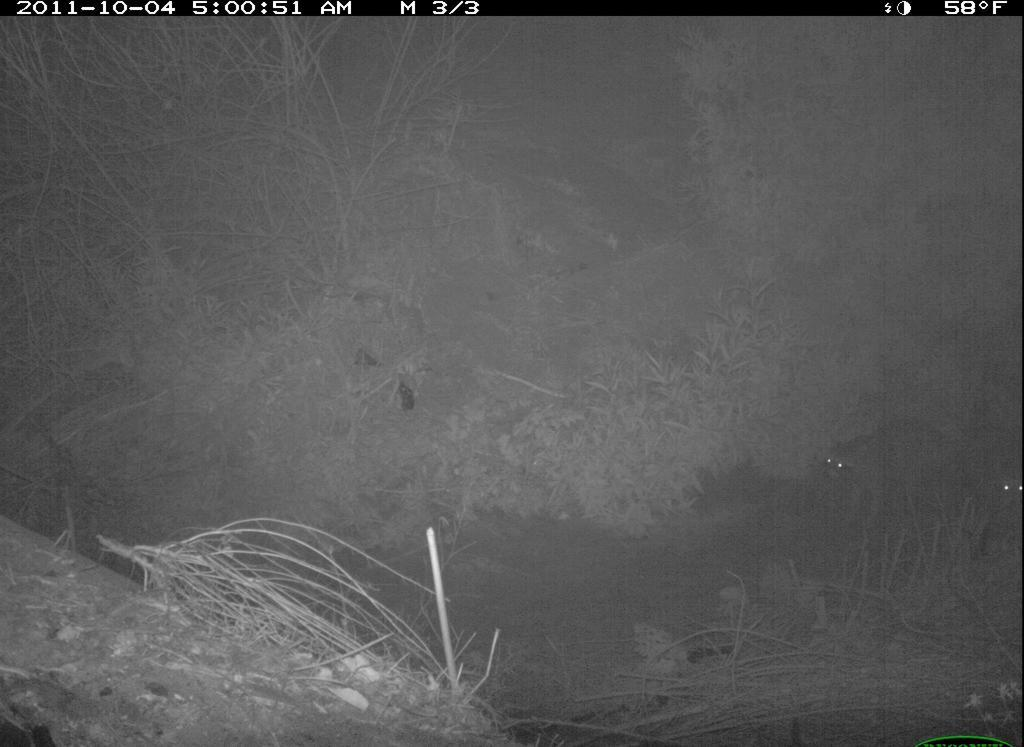raccoon: (812, 418, 957, 518), (986, 442, 1023, 539)
